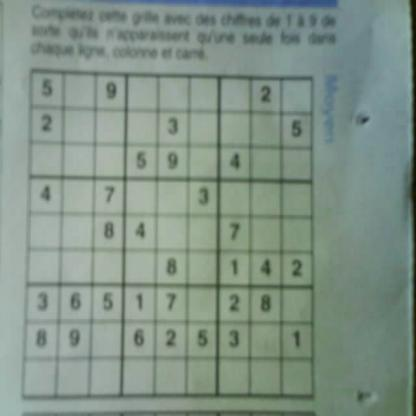sudoku: (18, 63, 320, 405)
